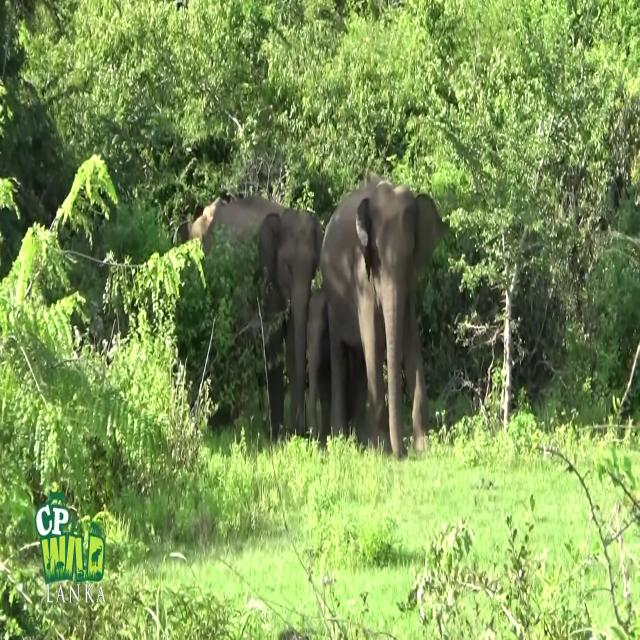Elephant: (320, 171, 450, 460), (172, 194, 323, 442)
